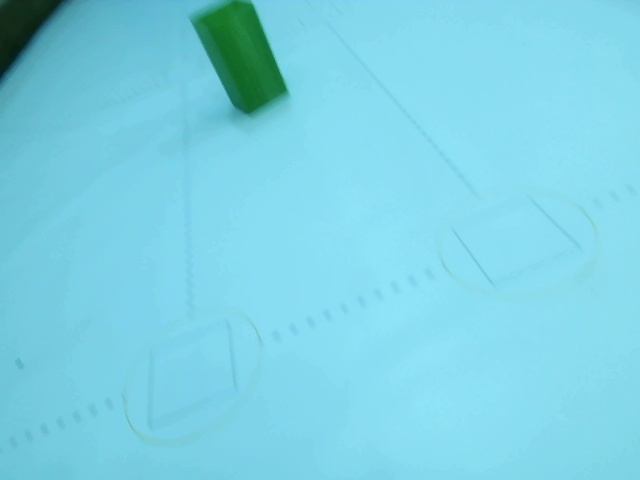green: (190, 4, 293, 116)
